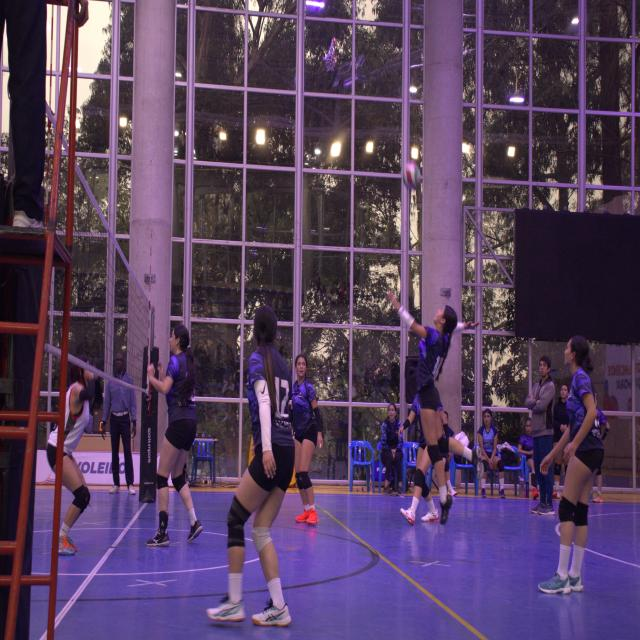volleyball: (402, 161, 420, 190)
